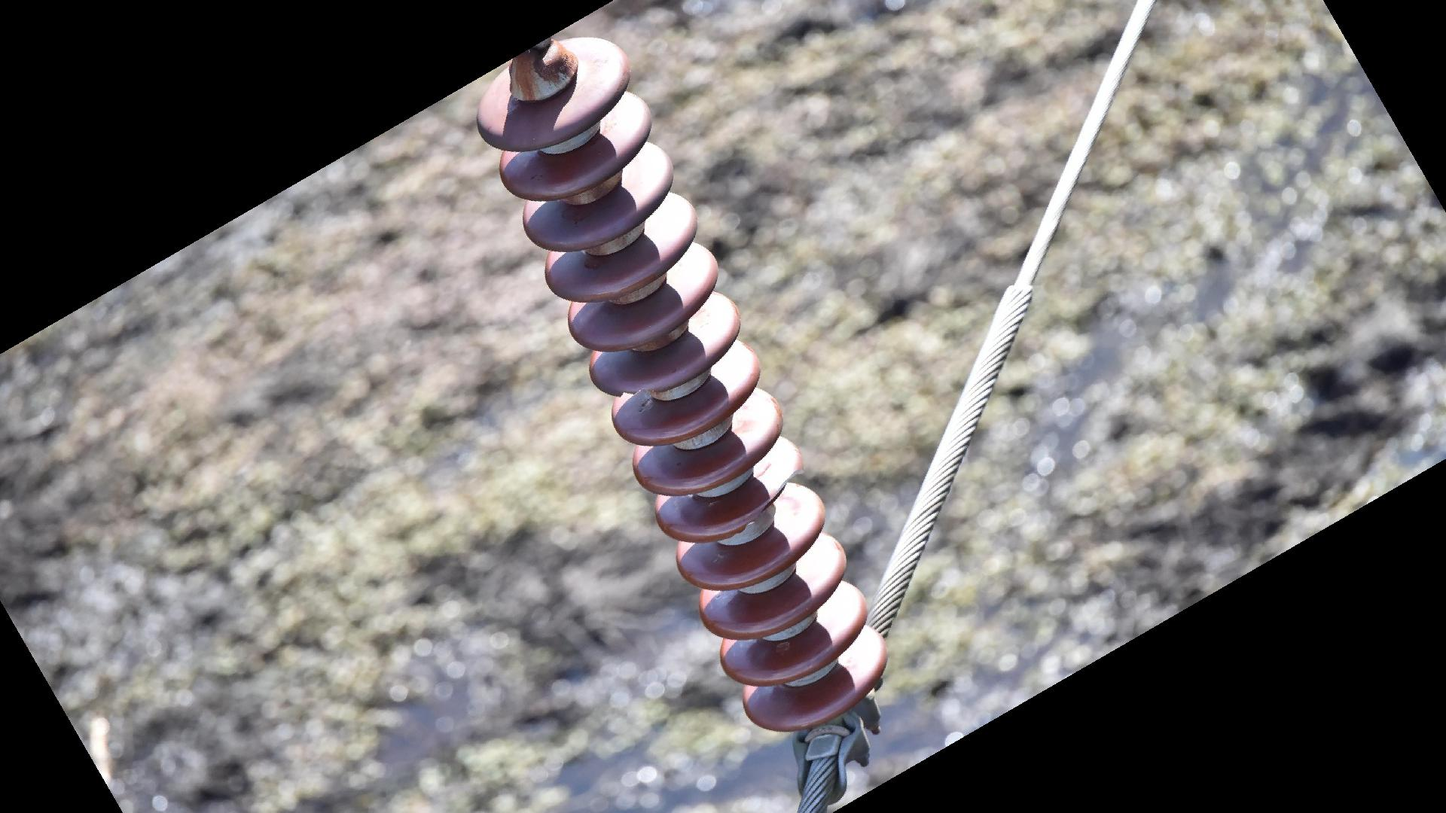insulator: (467, 32, 893, 736)
insulator_breakage: (609, 382, 660, 404)
